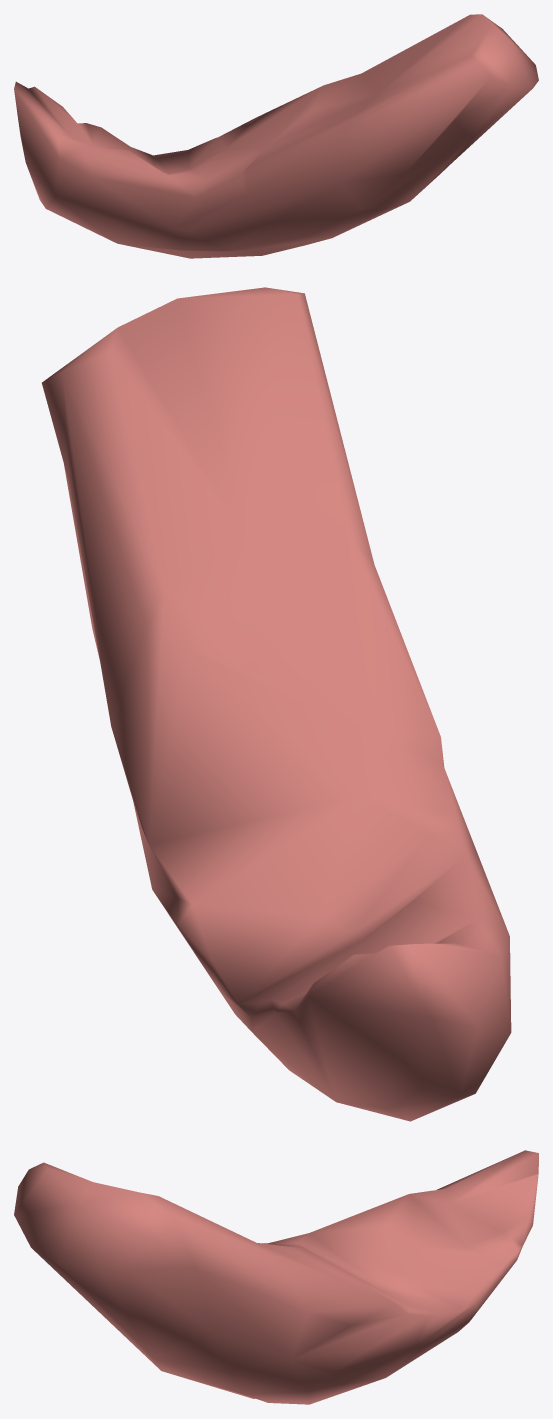
3 renders of one model, top to bottom at view 1: azimuth 30°, elevation 25°; view 2: azimuth 150°, elevation 25°; view 3: azimuth 270°, elevation 25°, orthographic. The views are drawn at different scales.
Parts seen in each view (by area): view 1: ZA_1f31a1321b85473a; view 2: ZA_1f31a1321b85473a; view 3: ZA_1f31a1321b85473a.
Boxes of the visible parts, x1,y1,x2,y2 form: ZA_1f31a1321b85473a: (14, 14, 538, 258); ZA_1f31a1321b85473a: (42, 287, 511, 1121); ZA_1f31a1321b85473a: (14, 1150, 538, 1404).
Bounding box in the file's own units: 0.0212 × 0.0147 × 0.0224.
